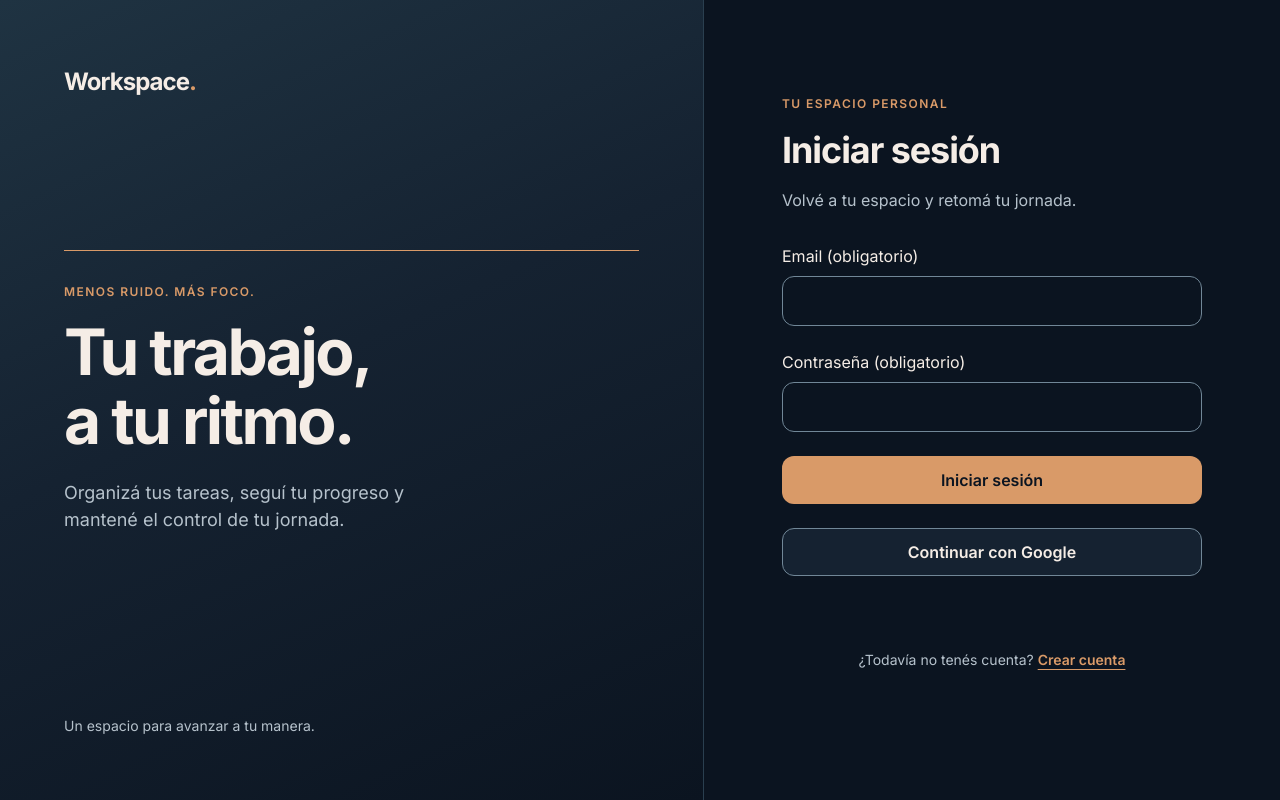
Scenario: Interfaz de autenticación › valida los campos vacíos y enfoca el primer error
The width and height of the screenshot is (1280, 800).
What coordinates should you click on to do the following:
click the button "Iniciar sesión"
I would click on:
 (992, 480)
Its box is [782,456,1202,504].
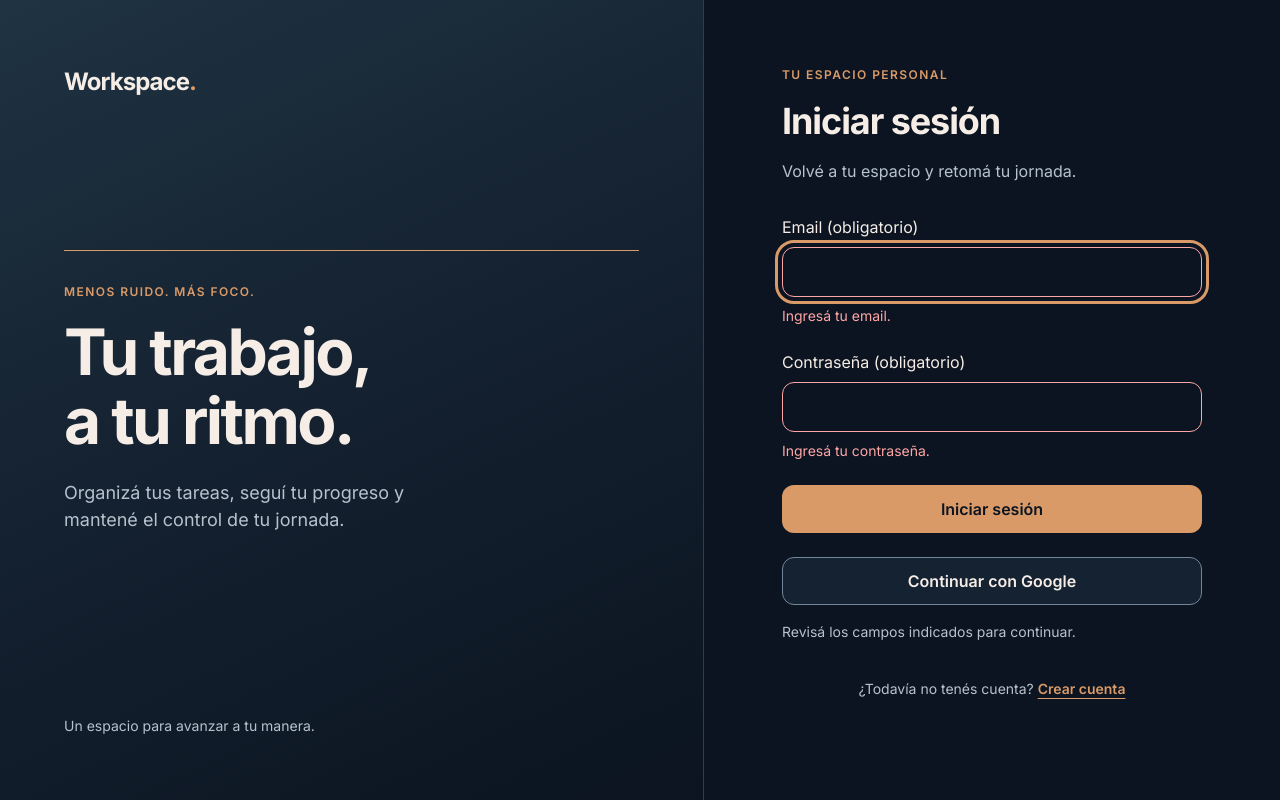
Expected: the message shows "Revisá los campos", [782,623,1076,640]
